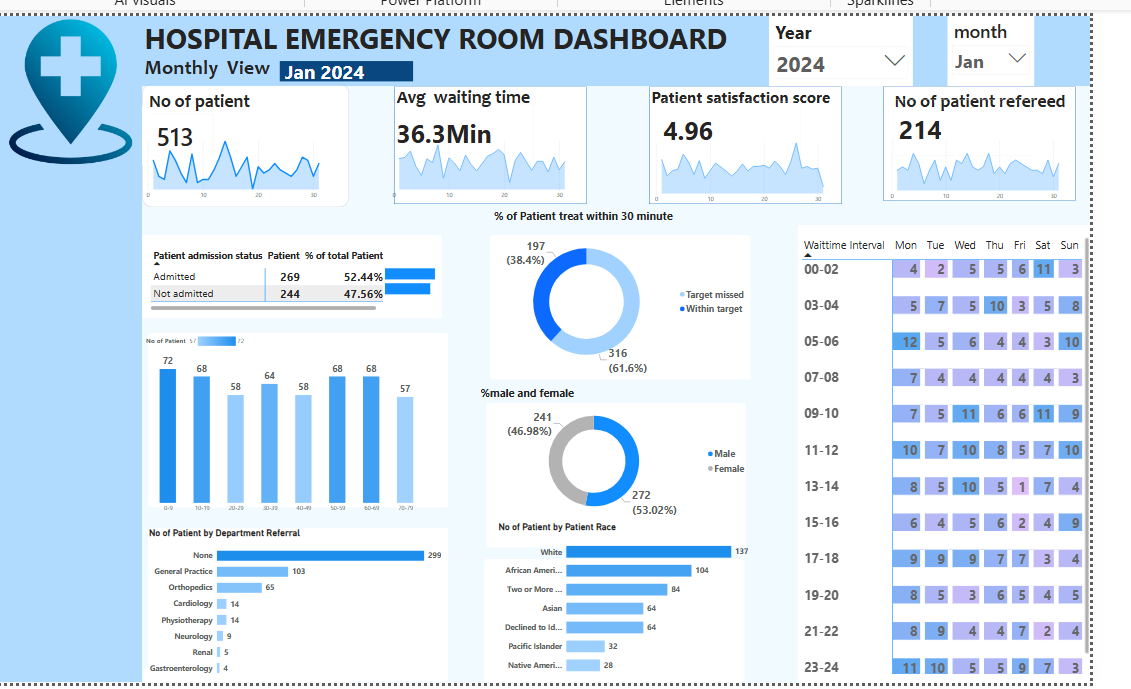

Layout of this report page (visuals, bound fields, positions):
{"tool":"powerbi","page":{"name":"Page 1","canvas":[2300,1400],"ordinal":0},"visuals":[{"type":"shape","box":[1684.4,437.6,617.1,963.4],"z":0},{"type":"shape","box":[1040,460.8,547.2,304],"z":1000},{"type":"shape","box":[836.6,147.4,404.6,246.9],"z":2000},{"type":"shape","box":[308.6,140.6,435,260],"z":3000},{"type":"shape","box":[0,0,308.6,1397.9],"z":4000},{"type":"shape","box":[308.6,0,1992,147.4],"z":5000},{"type":"textbox","box":[308.6,0,1254.9,102.9],"z":6000},{"type":"textbox","box":[308.6,75.4,418.3,65.1],"z":7000},{"type":"cardVisual","fields":{"Data":["Hospital ER_Data.No of Patient"]},"box":[308.6,188.6,168,123.4],"z":8000},{"type":"slicer","fields":{"Values":["Date table.Year"]},"box":[1625.1,0,301.7,147.4],"z":9000},{"type":"slicer","fields":{"Values":["Date table.month"]},"box":[1998.9,0,181.7,147.4],"z":10000},{"type":"textbox","box":[836.6,140.6,342.9,92.6],"z":11000},{"type":"areaChart","fields":{"Category":["Date table.Date.Variation.Date Hierarchy.Day"],"Y":["Hospital ER_Data.No of Patient"]},"box":[304.6,250.3,435.4,144],"z":12000},{"type":"cardVisual","fields":{"Rows":["Date table.Month & Year"]},"box":[593.1,68.6,291.4,181.7],"z":13000},{"type":"shape","box":[1371.4,147.4,404.6,246.9],"z":14000},{"type":"shape","box":[1865.1,147.4,404.6,240],"z":15000},{"type":"textbox","box":[318.6,150.6,342.9,92.6],"z":16000},{"type":"areaChart","fields":{"Category":["Date table.Date.Variation.Date Hierarchy.Day"],"Y":["Avg(Hospital ER_Data.Patient Waittime)"]},"box":[822.4,249.6,435.2,144],"z":17000},{"type":"areaChart","fields":{"Category":["Date table.Date.Variation.Date Hierarchy.Day"],"Y":["Avg(Hospital ER_Data.Patient Satisfaction Score)"]},"box":[1372.8,252.8,425.6,150.4],"z":18000},{"type":"cardVisual","fields":{"Data":["Hospital ER_Data.Avg waiting time"]},"box":[812.8,166.4,336,153.6],"z":19000},{"type":"textbox","box":[1372.8,140.8,403.2,73.6],"z":20000},{"type":"cardVisual","fields":{"Data":["Hospital ER_Data.avg satisfaction score"]},"box":[1372.8,160,336,153.6],"z":21000},{"type":"textbox","box":[310.4,1369.6,435.2,28.8],"z":22000},{"type":"textbox","box":[1881.6,150.4,419.2,64],"z":23000},{"type":"cardVisual","fields":{"Data":["Hospital ER_Data.No. of Patient Referred"]},"box":[1865.6,156.8,336,153.6],"z":24000},{"type":"areaChart","fields":{"Category":["Date table.Date.Variation.Date Hierarchy.Day"],"Y":["Hospital ER_Data.No. of Patient Referred"]},"box":[1865.6,246.4,425.6,150.4],"z":25000},{"type":"shape","box":[307.2,460.8,630.4,176],"z":26000},{"type":"pivotTable","fields":{"Values":["Hospital ER_Data.No of Patient1","Hospital ER_Data.No of Patient"],"Rows":["Hospital ER_Data.Patient admission  status"]},"box":[320,483.2,498,140.8],"z":27000},{"type":"barChart","fields":{"Category":["Hospital ER_Data.Patient admission  status"],"Y":["Hospital ER_Data.No of Patient"]},"box":[812.8,499.2,128,105.6],"z":28000},{"type":"donutChart","title":"% of Patient  treat within 30 minute","fields":{"Category":["Hospital ER_Data.WAIT TIME"],"Y":["Hospital ER_Data.No of Patient"]},"box":[1043.2,403.2,544,361.6],"z":29000},{"type":"shape","box":[320,665.6,630.4,368],"z":30000},{"type":"clusteredColumnChart","fields":{"Category":["Hospital ER_Data.Age Group"],"Y":["Hospital ER_Data.No of Patient"]},"box":[311.7,664.3,601.4,387.3],"z":31000},{"type":"shape","box":[320,1075.2,630.4,323.2],"z":32000},{"type":"clusteredBarChart","fields":{"Category":["Hospital ER_Data.Department Referral"],"Y":["Hospital ER_Data.No of Patient"]},"box":[318,1073.6,623.4,324.3],"z":33000},{"type":"shape","box":[1030.4,812.8,547.2,304],"z":34000},{"type":"donutChart","title":"%male and female","fields":{"Y":["Hospital ER_Data.No of Patient"],"Category":["Hospital ER_Data.Patient Gender"]},"box":[1014.4,774.4,572.8,288],"z":35000},{"type":"shape","box":[1027.2,1139.2,547.2,259.2],"z":36000},{"type":"clusteredBarChart","fields":{"Category":["Hospital ER_Data.Patient Race"],"Y":["Hospital ER_Data.No of Patient"]},"box":[1052.8,1062.4,534.4,336],"z":37000},{"type":"pivotTable","fields":{"Rows":["Hospital ER_Data.Waittime Interval"],"Columns":["Date table.day NAME"],"Values":["Hospital ER_Data.No of Patient"]},"box":[1687.6,459.7,614,925.7],"z":38000},{"type":"image","box":[0,6.3,318,305.4],"z":38001}]}

Visuals, with their boxes in screenshot pixels (x1, y1, x2, y2):
shape: 800,231,1088,682
shape: 498,242,754,384
shape: 403,95,592,211
shape: 156,92,360,214
shape: 12,27,156,680
shape: 156,27,1088,95
textbox: 156,27,743,75
textbox: 156,62,352,92
cardVisual - Hospital ER_Data.No of Patient: 156,115,235,172
slicer - Date table.Year: 772,27,913,95
slicer - Date table.month: 947,27,1032,95
textbox: 403,92,563,136
areaChart - Date table.Date.Variation.Date Hierarchy.Day x Hospital ER_Data.No of Patient: 154,144,358,211
cardVisual - Date table.Month & Year: 289,59,426,144
shape: 653,95,843,211
shape: 884,95,1073,208
textbox: 161,97,321,140
areaChart - Date table.Date.Variation.Date Hierarchy.Day x Avg(Hospital ER_Data.Patient Waittime): 396,143,600,211
areaChart - Date table.Date.Variation.Date Hierarchy.Day x Avg(Hospital ER_Data.Patient Satisfaction Score): 654,145,853,215
cardVisual - Hospital ER_Data.Avg waiting time: 392,104,549,176
textbox: 654,92,843,127
cardVisual - Hospital ER_Data.avg satisfaction score: 654,101,811,173
textbox: 157,667,361,681
textbox: 892,97,1088,127
cardVisual - Hospital ER_Data.No. of Patient Referred: 884,100,1042,172
areaChart - Date table.Date.Variation.Date Hierarchy.Day x Hospital ER_Data.No. of Patient Referred: 884,142,1083,212
shape: 155,242,450,324
pivotTable - Hospital ER_Data.No of Patient1 x Hospital ER_Data.No of Patient: 161,253,394,318
barChart - Hospital ER_Data.Patient admission  status x Hospital ER_Data.No of Patient: 392,260,452,309
"% of Patient  treat within 30 minute" donutChart: 500,215,754,384
shape: 161,338,456,510
clusteredColumnChart - Hospital ER_Data.Age Group x Hospital ER_Data.No of Patient: 158,337,439,518
shape: 161,529,456,681
clusteredBarChart - Hospital ER_Data.Department Referral x Hospital ER_Data.No of Patient: 161,529,452,680
shape: 494,407,750,549
"%male and female" donutChart: 486,389,754,523
shape: 492,559,748,681
clusteredBarChart - Hospital ER_Data.Patient Race x Hospital ER_Data.No of Patient: 504,523,754,681
pivotTable - Hospital ER_Data.Waittime Interval x Date table.day NAME: 801,242,1088,675
image: 12,29,161,172
